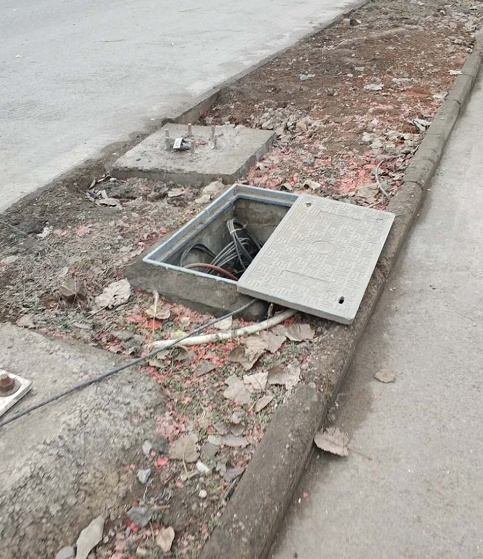uncovered: (138, 181, 398, 325)
